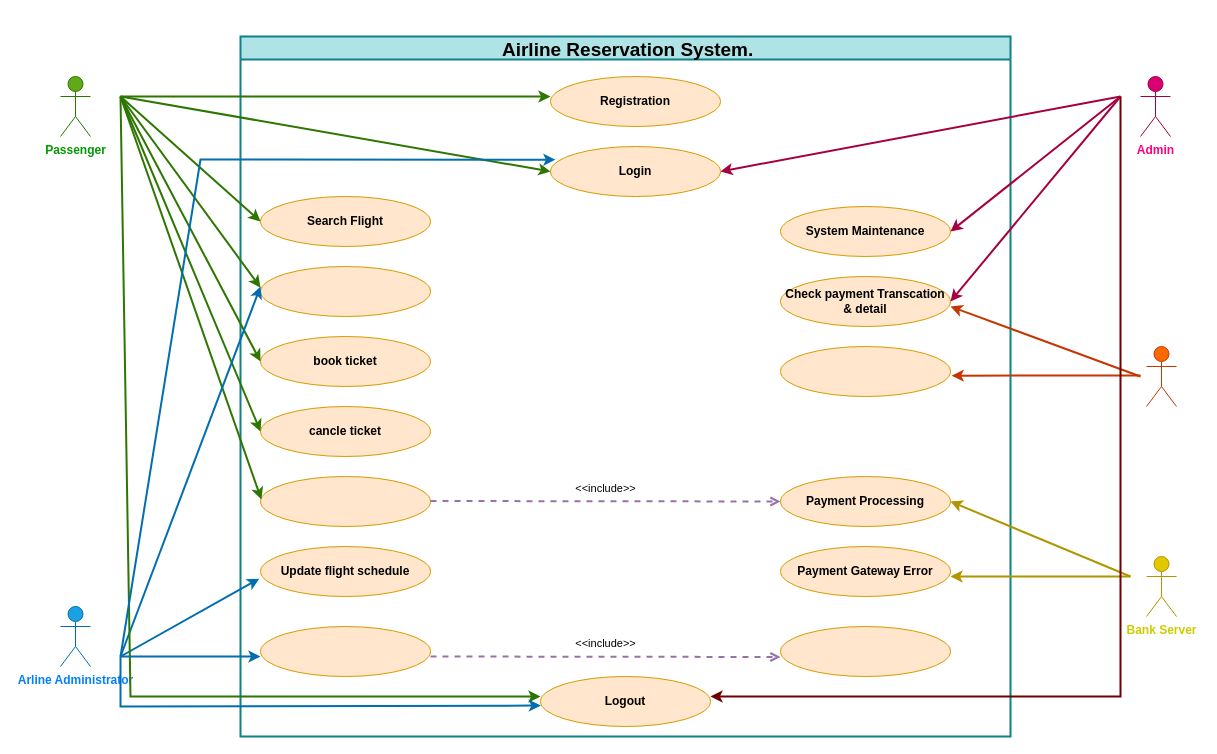
Some shapes in this 1217 by 754 pixel diagram are drawn without their labels. The centre of each missing label's shape, as x and y in pixels:
Airline Server: point (1161, 376)
Cancle Flight: point (345, 651)
Check Flight status: point (345, 291)
Generate E-ticket: point (865, 371)
make payment: point (345, 501)
Refund Payment: point (865, 651)
